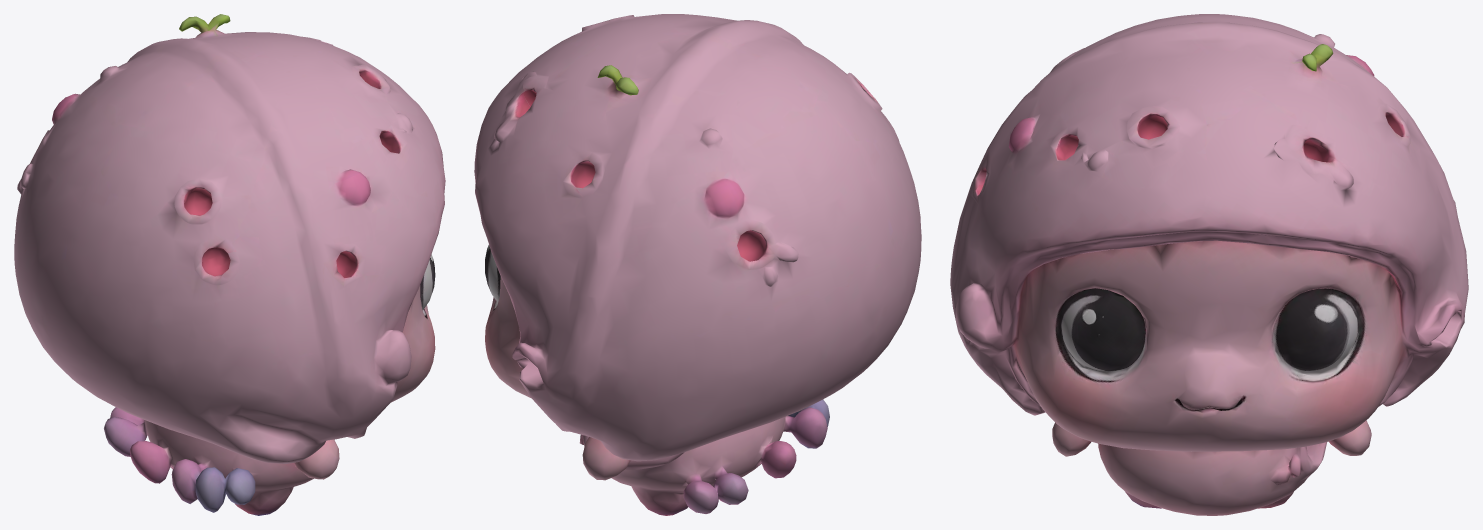
File: head.glb
3 renders of one model, left to right at view 1: azimuth 30°, elevation 25°; view 2: azimuth 150°, elevation 25°; view 3: azimuth 270°, elevation 25°, orthographic. The views are drawn at different scales.
Parts seen in each view (by area): view 1: tripo_node_d10d6105-ab80-471d-a961-5f4fce337194; view 2: tripo_node_d10d6105-ab80-471d-a961-5f4fce337194; view 3: tripo_node_d10d6105-ab80-471d-a961-5f4fce337194.
Boxes of the visible parts, bbox=[...] form: tripo_node_d10d6105-ab80-471d-a961-5f4fce337194: bbox=[14, 14, 445, 515]; tripo_node_d10d6105-ab80-471d-a961-5f4fce337194: bbox=[474, 14, 921, 515]; tripo_node_d10d6105-ab80-471d-a961-5f4fce337194: bbox=[950, 14, 1468, 515].
Size of the model in its own units: 0.8851 by 1 by 0.9957.
Materials: 1 (1 with a texture image).
